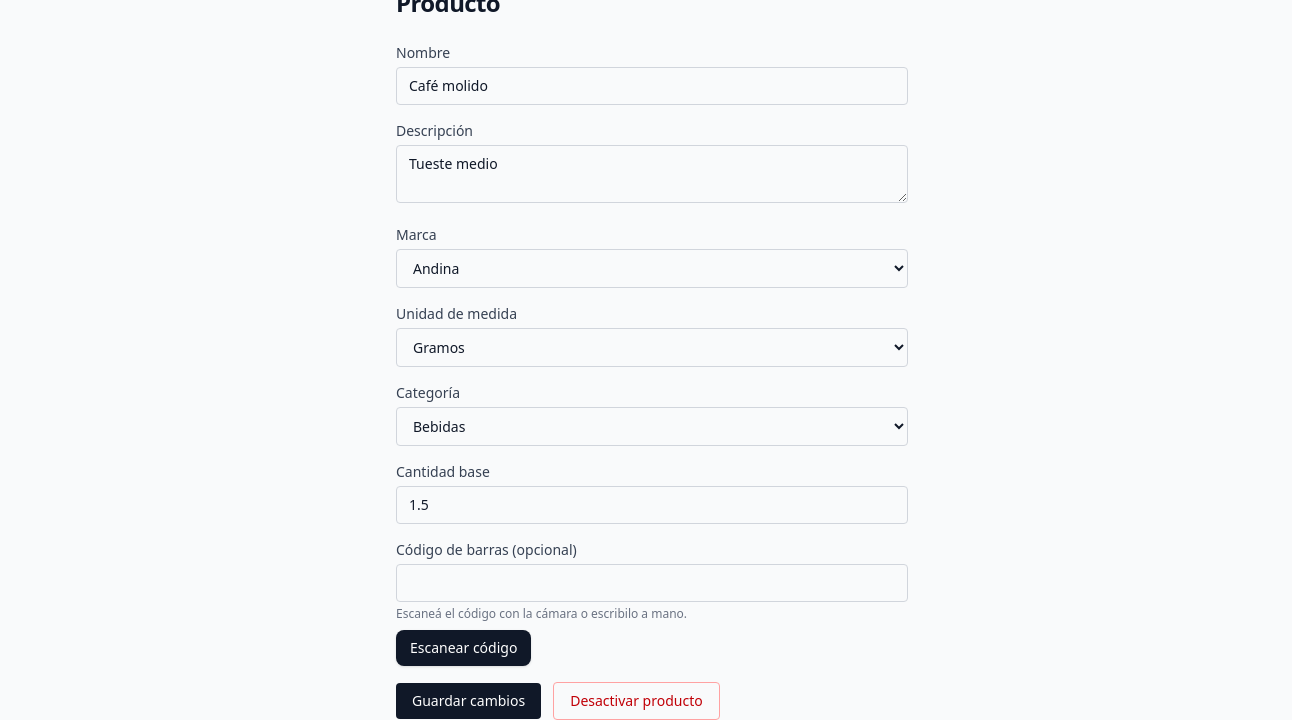
Test: ProductFormPage (PROD-2/PROD-3 · §S2 fila Product form) › admin: desactivar solo hace soft-delete (C0.2) — nunca borra la fila
The image size is (1292, 720).
(page scrolled)
Click the button "Desactivar producto": (636, 701) [553,682,720,719]
(page scrolled)
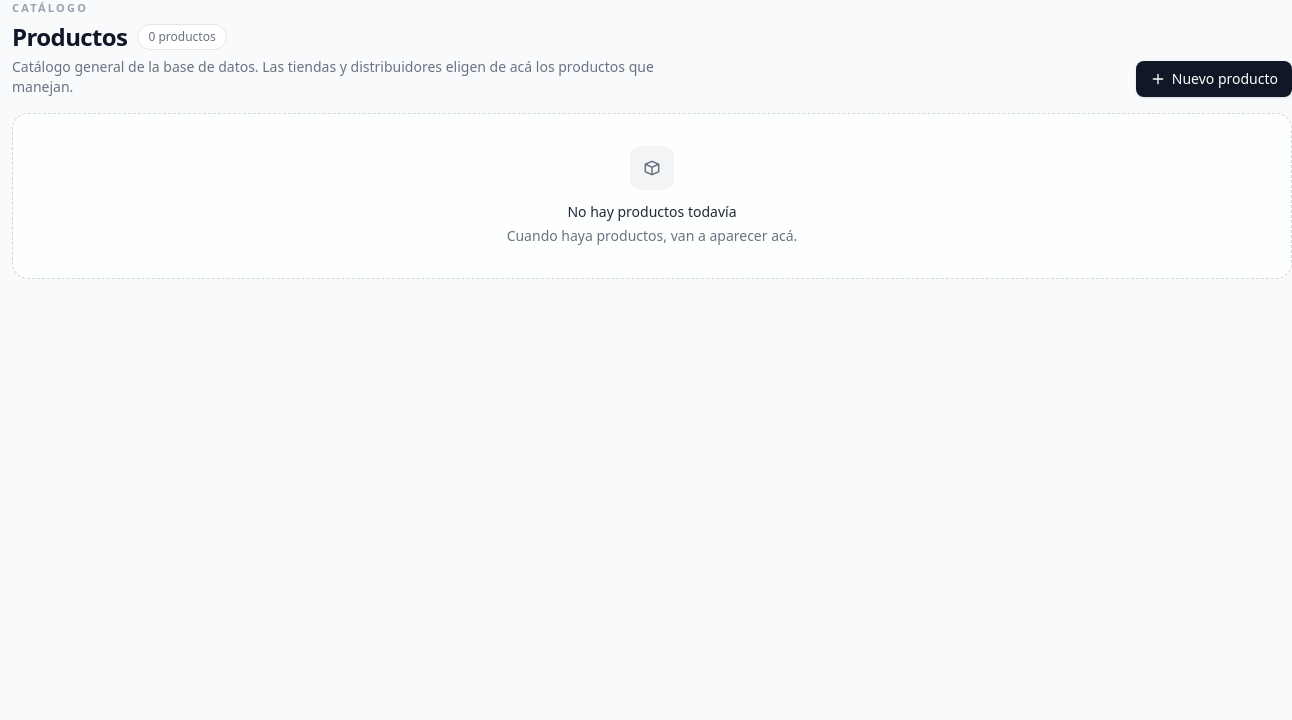
Now the heading "Productos" is shown, box [12,20,128,52]
